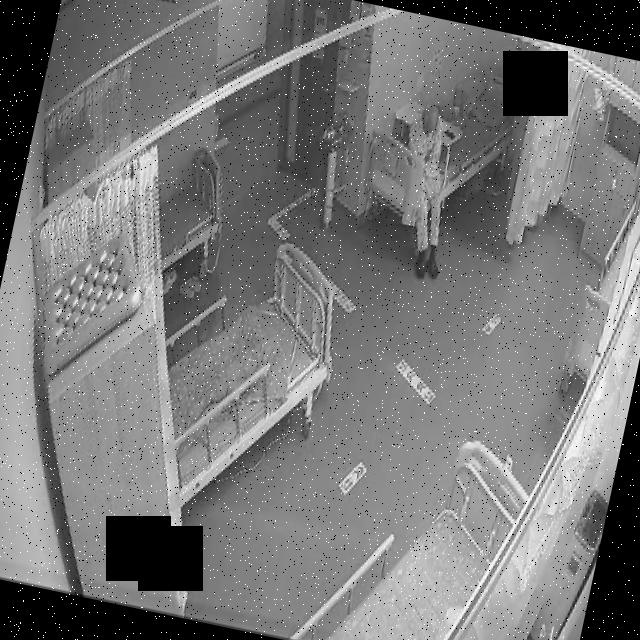bed: (143, 226, 350, 525), (289, 409, 538, 640), (356, 54, 524, 242), (146, 142, 236, 282)
patient: (374, 103, 472, 283)
sit: (374, 103, 474, 283)
